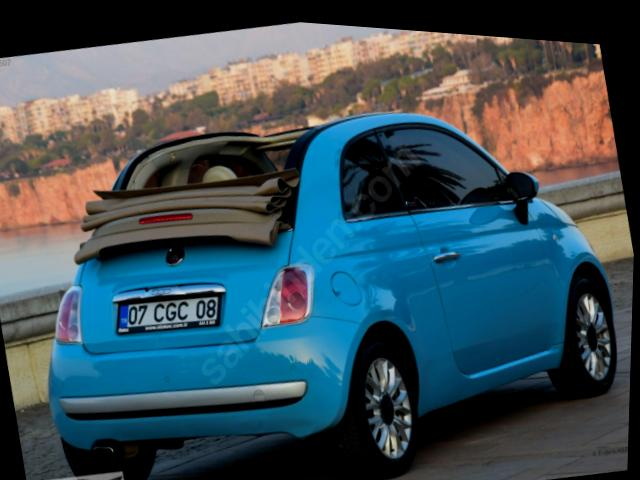plaka: (116, 292, 221, 333)
